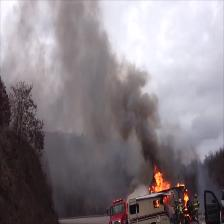fire: (150, 172, 167, 194)
smoke: (65, 26, 110, 126), (121, 93, 158, 159)
